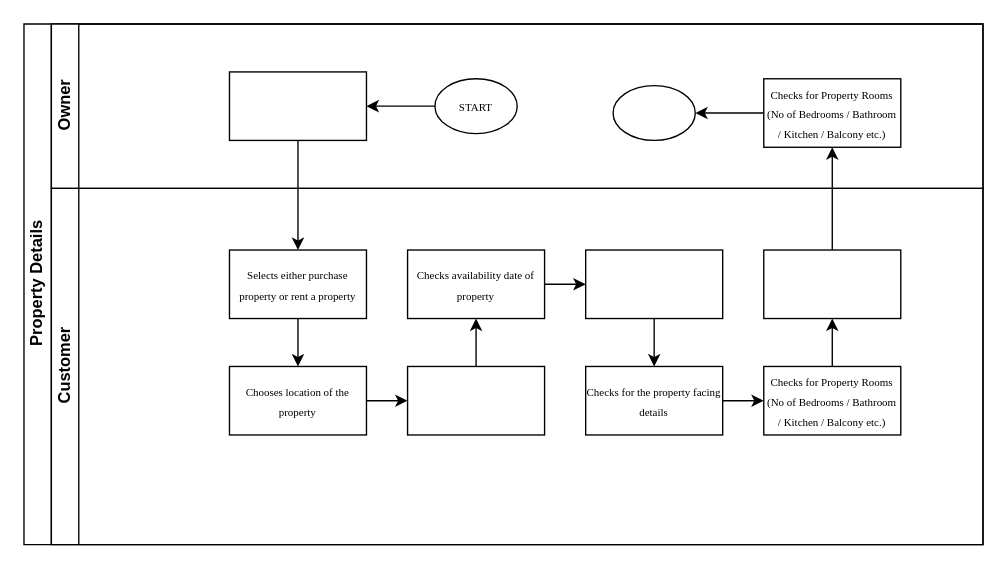
Some shapes in this 1007 by 569 pixel diagram are drawn without their labels. The centre of each missing label's shape, as x and y in pixels:
Checks for floor of the property: (x=653, y=284)
Creates a property listing / gives the ad for sale or rent: (x=297, y=105)
END: (x=653, y=112)
Selects Type of property (Furnished or not): (x=475, y=400)
Shares Contact Information (Email id or Phone number) with Owner: (x=831, y=284)
